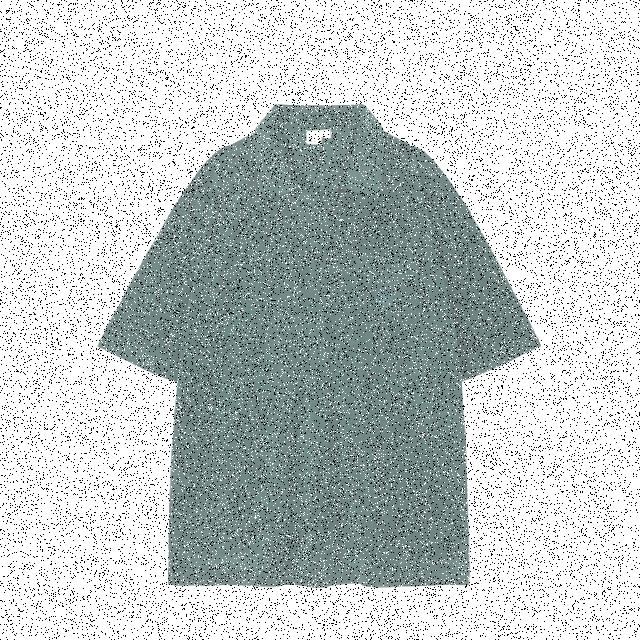Blouse_deep: (80, 108, 532, 600)
